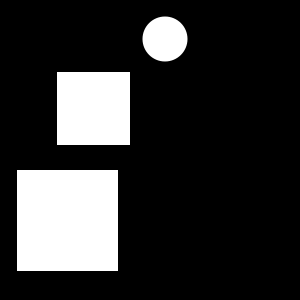circle: (17, 170, 118, 271), (57, 72, 130, 145)
rectangle: (142, 17, 188, 62)
